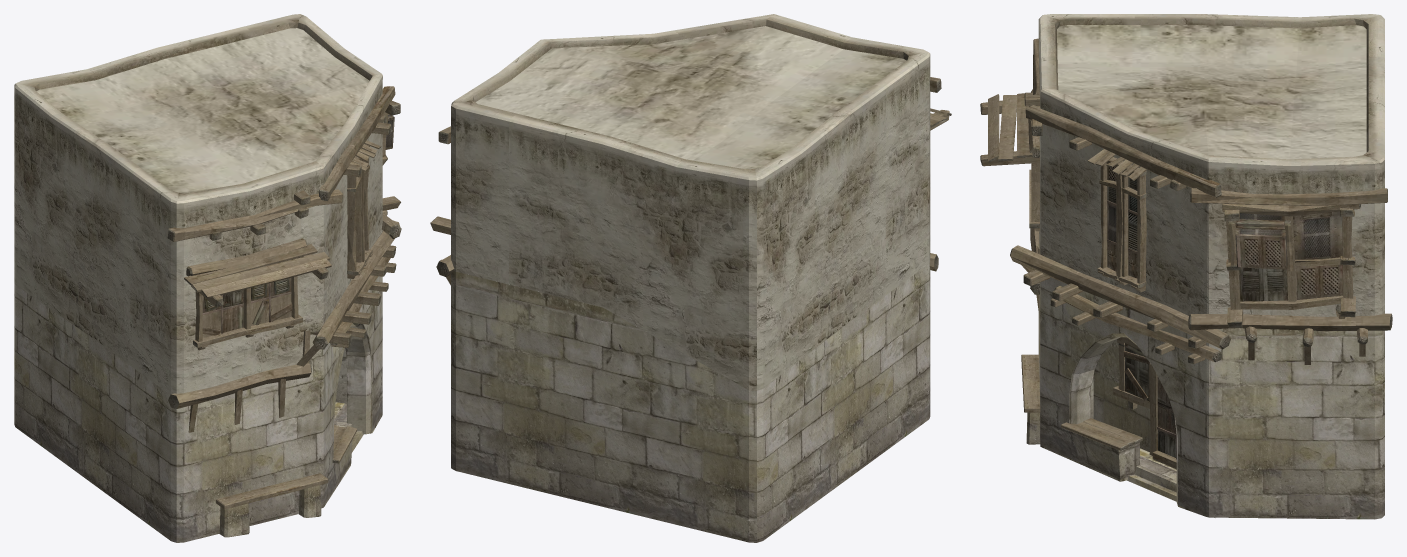
File: TW2_5_HOUSE_02_26-transformed.glb
The picture shows the model from 3 angles, left to right: view 1: azimuth 30°, elevation 25°; view 2: azimuth 150°, elevation 25°; view 3: azimuth 270°, elevation 25°; orthographic projection. The views are drawn at different scales.
Parts seen in each view (by area): view 1: default; view 2: default; view 3: default.
Boxes of the visible parts, <box> form: default: <box>14,14,401,542</box>; default: <box>430,14,951,542</box>; default: <box>980,14,1392,519</box>.
Size of the model in its own units: 8.34 by 9.02 by 8.68.
3 materials, 3 textured.
